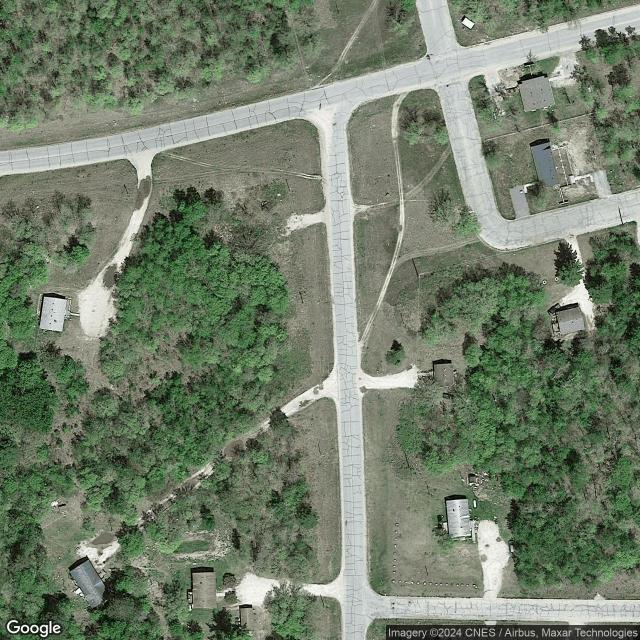Propane: (472, 498, 478, 509)
